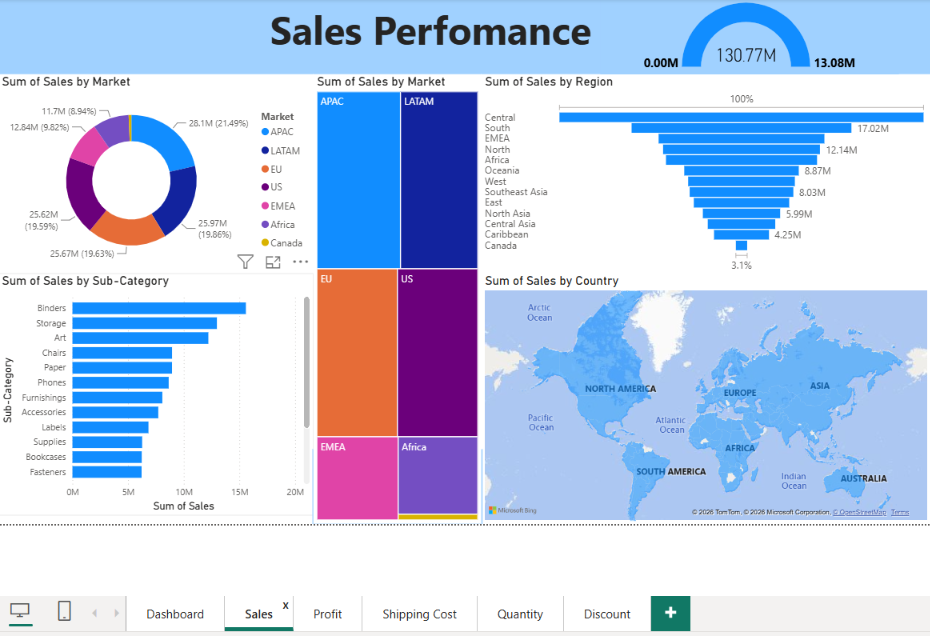

This screenshot's page, from the dashboard's own definition file:
{"tool":"powerbi","page":{"name":"Sales","canvas":[1280,720],"ordinal":1},"visuals":[{"type":"textbox","box":[0,0,1280,103.1],"z":0},{"type":"filledMap","fields":{"Category":["New_Visualized_Sales.Country"]},"box":[663.1,375.4,616.9,344.6],"z":1000},{"type":"donutChart","fields":{"Category":["New_Visualized_Sales.Market"],"Y":["Sum(New_Visualized_Sales.Sales)"]},"box":[0,103.1,432.3,272.3],"z":2000},{"type":"funnel","fields":{"Category":["New_Visualized_Sales.Region"],"Y":["Sum(New_Visualized_Sales.Sales)"]},"box":[663.1,103.1,616.9,275.4],"z":3000},{"type":"clusteredBarChart","fields":{"Category":["New_Visualized_Sales.Sub-Category"],"Y":["Sum(New_Visualized_Sales.Sales)"]},"box":[0,375.4,432.3,332.3],"z":4000},{"type":"card","fields":{"Values":["Sum(New_Visualized_Sales.Sales)"]},"box":[430.8,616.9,233.8,103.1],"z":5000},{"type":"treemap","fields":{"Group":["New_Visualized_Sales.Market"],"Values":["Sum(New_Visualized_Sales.Sales)"]},"box":[432.3,103.1,230.8,616.9],"z":6000},{"type":"gauge","fields":{"Y":["Sum(New_Visualized_Sales.Sales)"]},"box":[826.2,0,409.2,103.1],"z":7000}]}

Visuals, with their boxes on the page's 1280x720 design canvas (x1, y1, x2, y2). These are canvas units, not pixel positions in the 930x636 screenshot, which may show the page scaled, cropped or inside an application window:
textbox: bbox=(0, 0, 1280, 103)
filledMap - New_Visualized_Sales.Country: bbox=(663, 375, 1280, 720)
donutChart - New_Visualized_Sales.Market x Sum(New_Visualized_Sales.Sales): bbox=(0, 103, 432, 375)
funnel - New_Visualized_Sales.Region x Sum(New_Visualized_Sales.Sales): bbox=(663, 103, 1280, 378)
clusteredBarChart - New_Visualized_Sales.Sub-Category x Sum(New_Visualized_Sales.Sales): bbox=(0, 375, 432, 708)
card - Sum(New_Visualized_Sales.Sales): bbox=(431, 617, 665, 720)
treemap - New_Visualized_Sales.Market x Sum(New_Visualized_Sales.Sales): bbox=(432, 103, 663, 720)
gauge - Sum(New_Visualized_Sales.Sales): bbox=(826, 0, 1235, 103)
